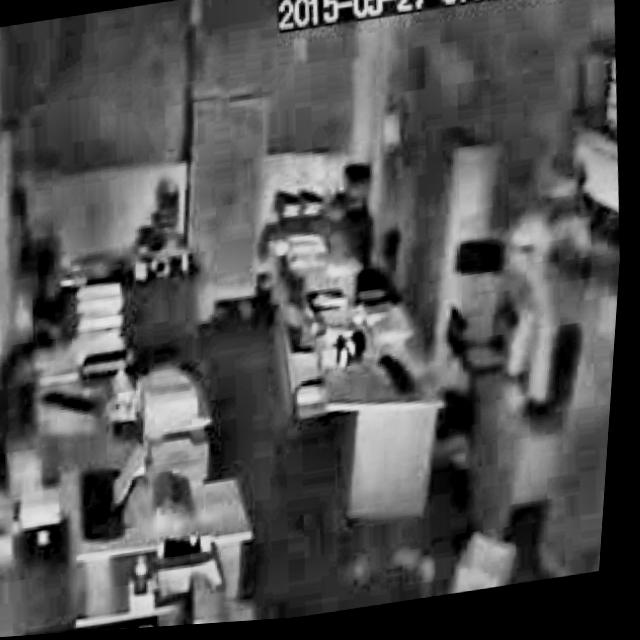burglary: (479, 152, 630, 431)
